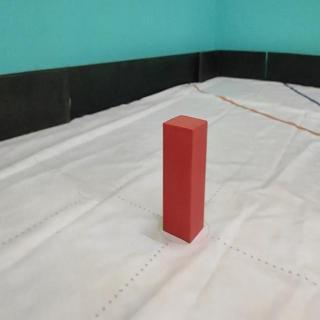redbox: (161, 114, 207, 243)
